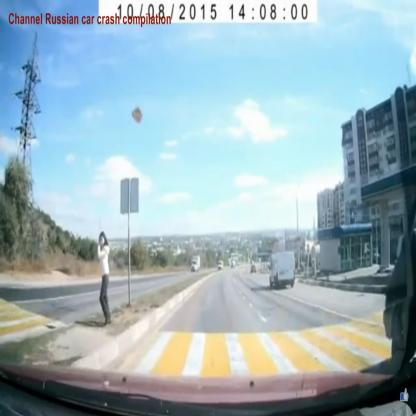crosswalk: (139, 324, 395, 373), (1, 298, 53, 342)
